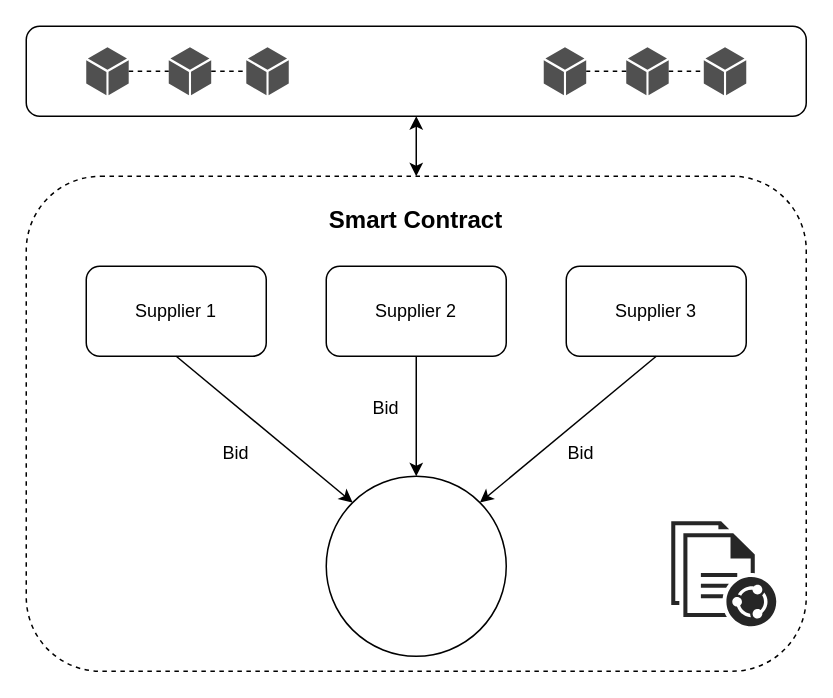
The diagram is 833 pixels wide and 698 high, and some of its shapes have lost their labels. Each missing label, with the box of its shape:
Blockchain: (25, 25, 806, 116)
Buyer: (325, 475, 506, 656)
